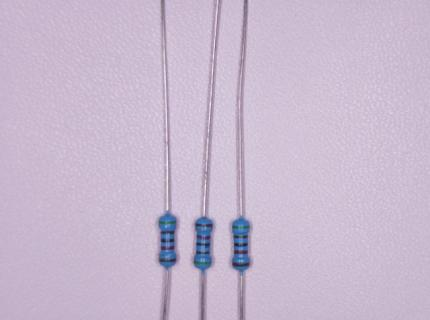Black band: (196, 242, 210, 247), (161, 238, 174, 243), (234, 242, 248, 246)
Brown band: (195, 222, 213, 228), (159, 258, 177, 263), (232, 262, 250, 267), (196, 250, 210, 254), (233, 234, 247, 238), (161, 231, 174, 235)
Green band: (158, 220, 177, 225), (193, 260, 211, 265), (232, 225, 250, 229)
Red band: (197, 235, 210, 240), (234, 250, 248, 254), (161, 246, 175, 250)
